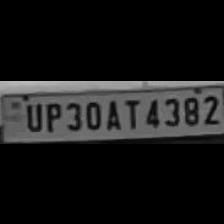0: (82, 97, 102, 130)
2: (200, 90, 220, 126)
3: (62, 97, 82, 130), (160, 93, 180, 126)
4: (141, 94, 161, 128)
8: (180, 92, 200, 126)
A: (102, 96, 122, 130)
P: (42, 98, 62, 132)
T: (122, 95, 140, 129)
U: (21, 98, 43, 132)
